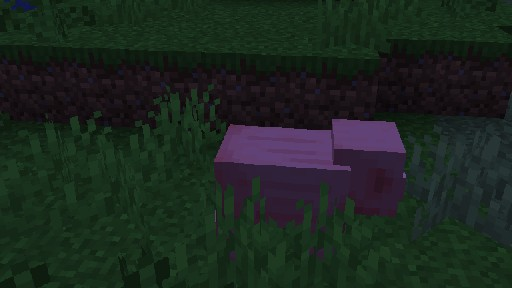pig: (208, 117, 406, 273)
